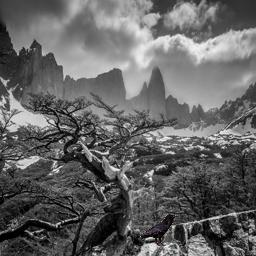Crow: (138, 213, 178, 246)
